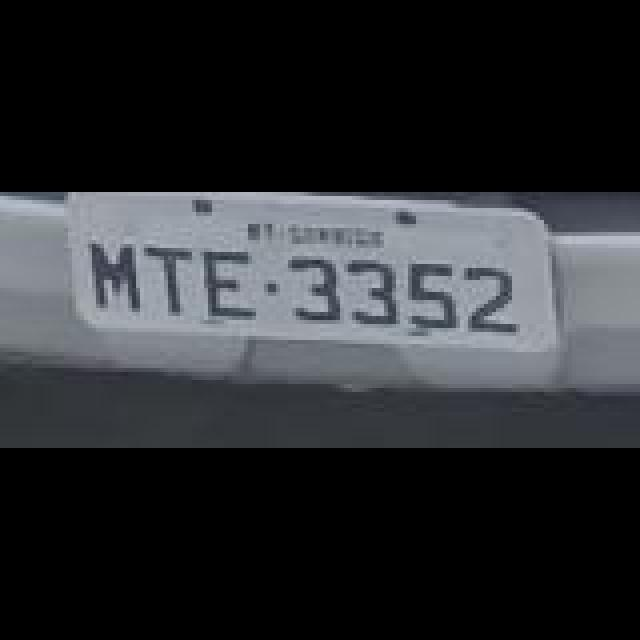2: (462, 266, 522, 334)
3: (288, 256, 344, 320), (350, 258, 402, 326)
5: (404, 262, 460, 330)
E: (198, 250, 258, 318)
M: (84, 240, 140, 312)
T: (146, 248, 198, 320)
